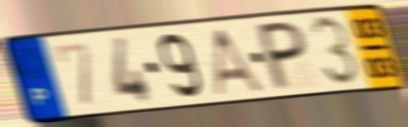3: (308, 14, 361, 89)
4: (111, 34, 151, 106)
7: (50, 40, 94, 109)
9: (156, 31, 204, 100)
A: (210, 26, 267, 98)
P: (256, 18, 308, 94)
